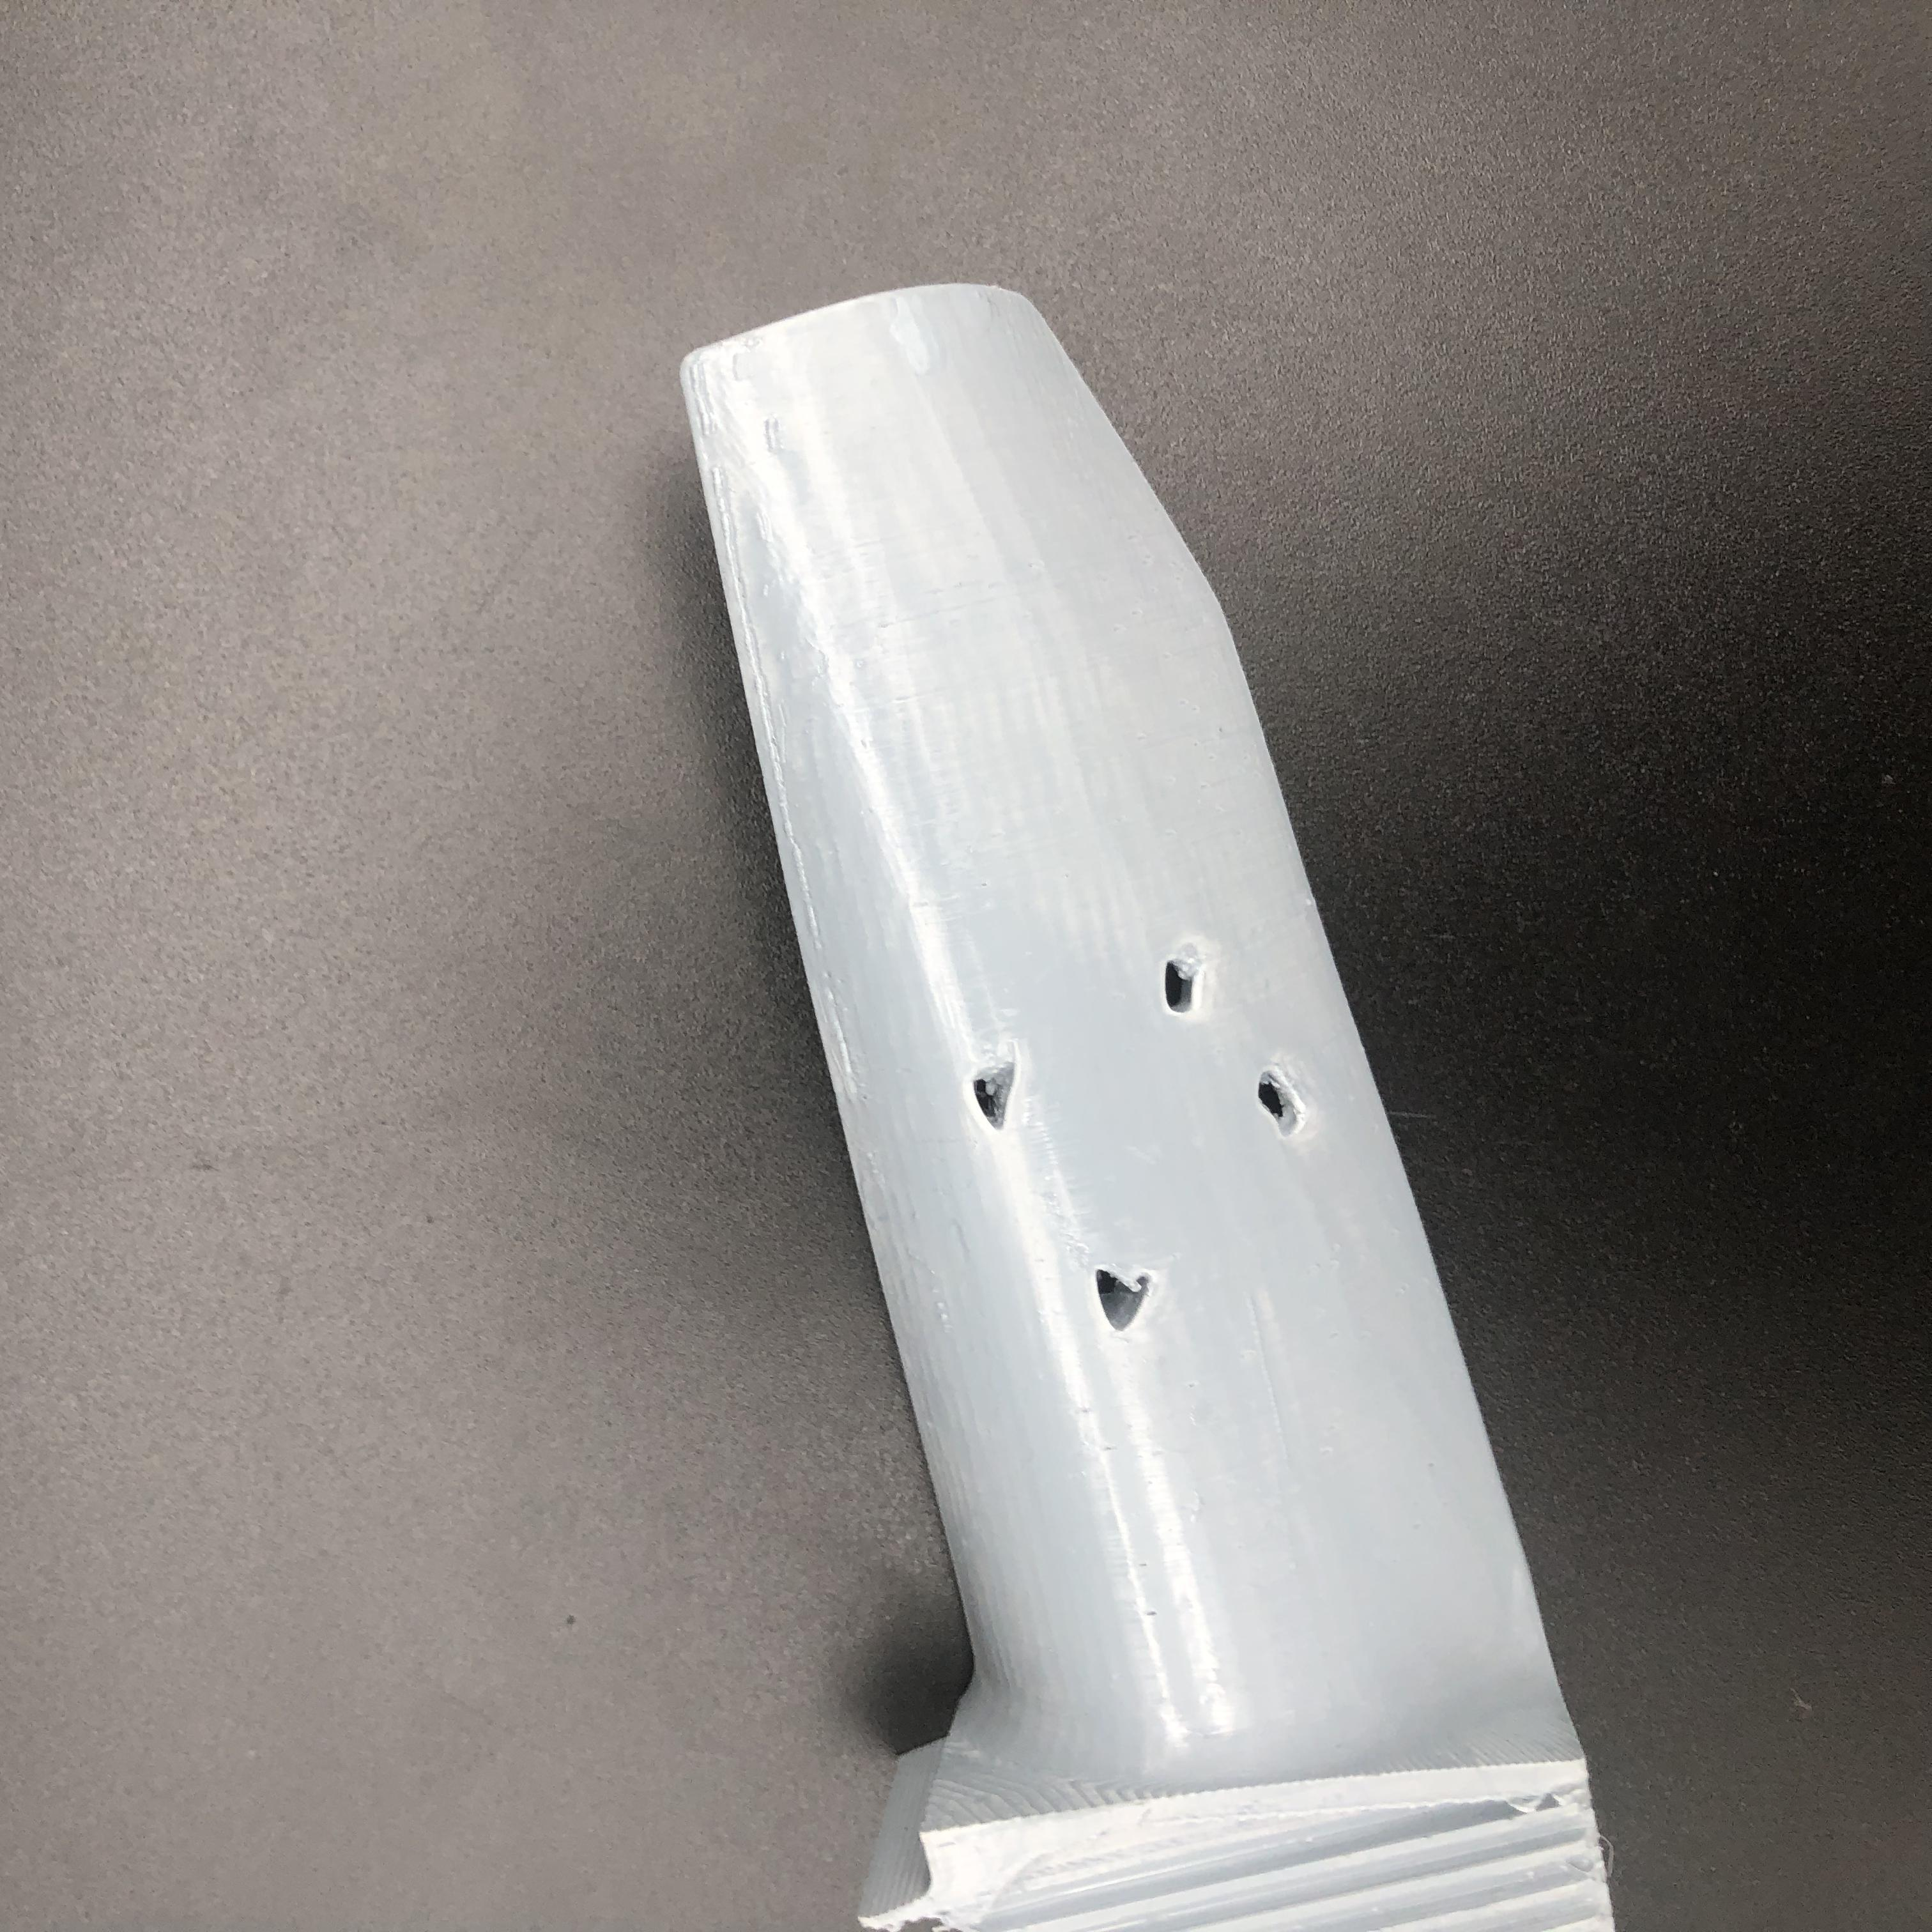breakdown: (962, 971, 1318, 1316)
